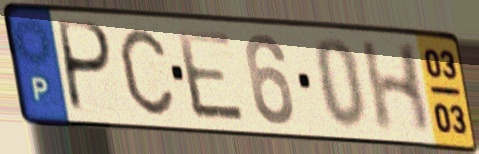0: (312, 34, 371, 134)
6: (242, 30, 296, 128)
C: (116, 25, 177, 119)
E: (172, 26, 250, 126)
H: (357, 39, 434, 136)
P: (57, 17, 117, 118)
